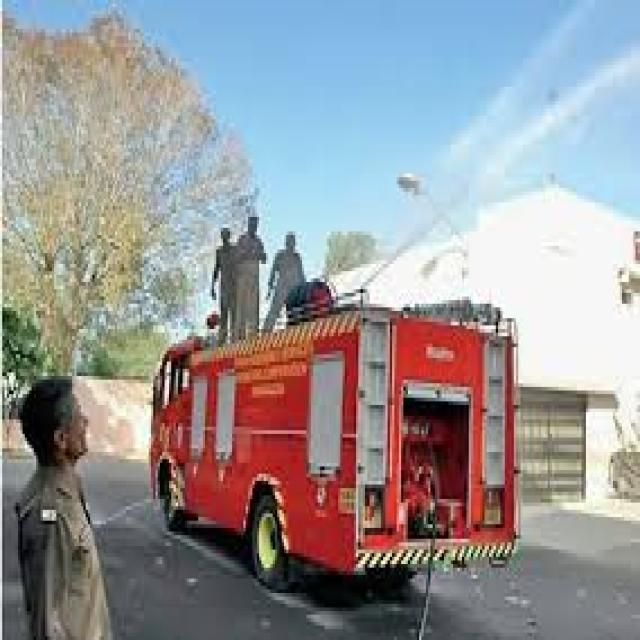Fire_brigade: (144, 275, 570, 622)
